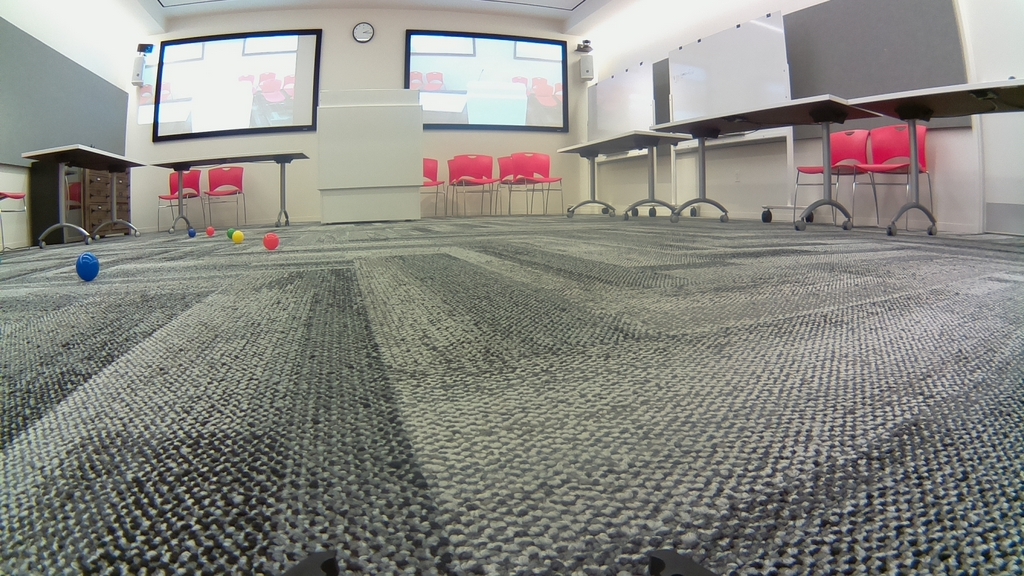ball: (261, 234, 279, 251)
